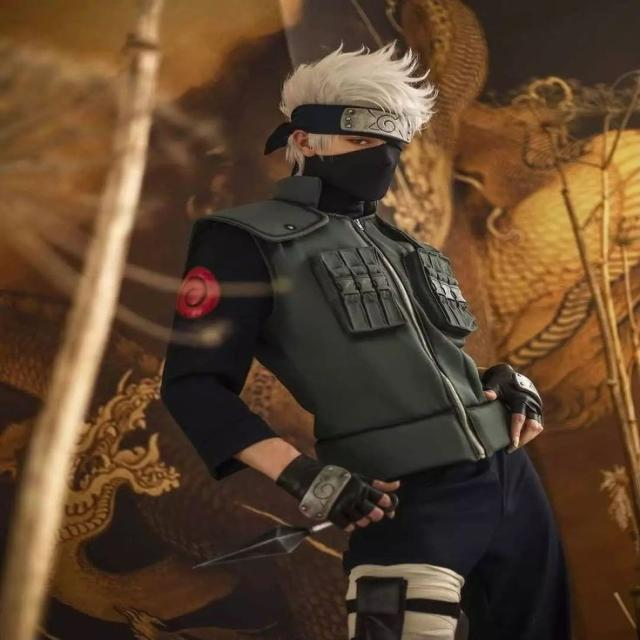stand: (207, 41, 572, 638)
